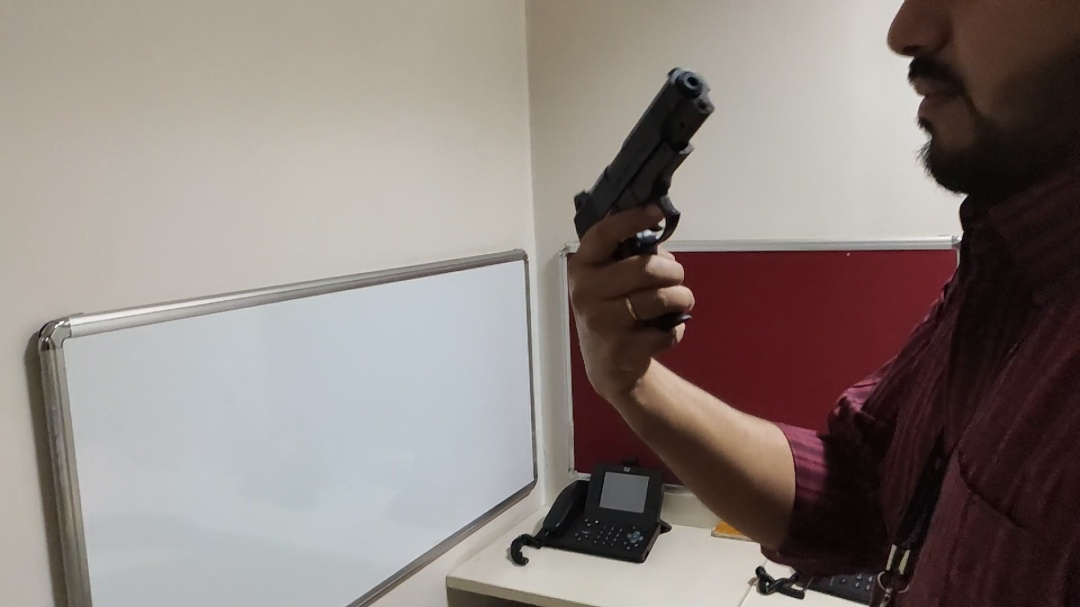gun: (547, 50, 739, 337)
